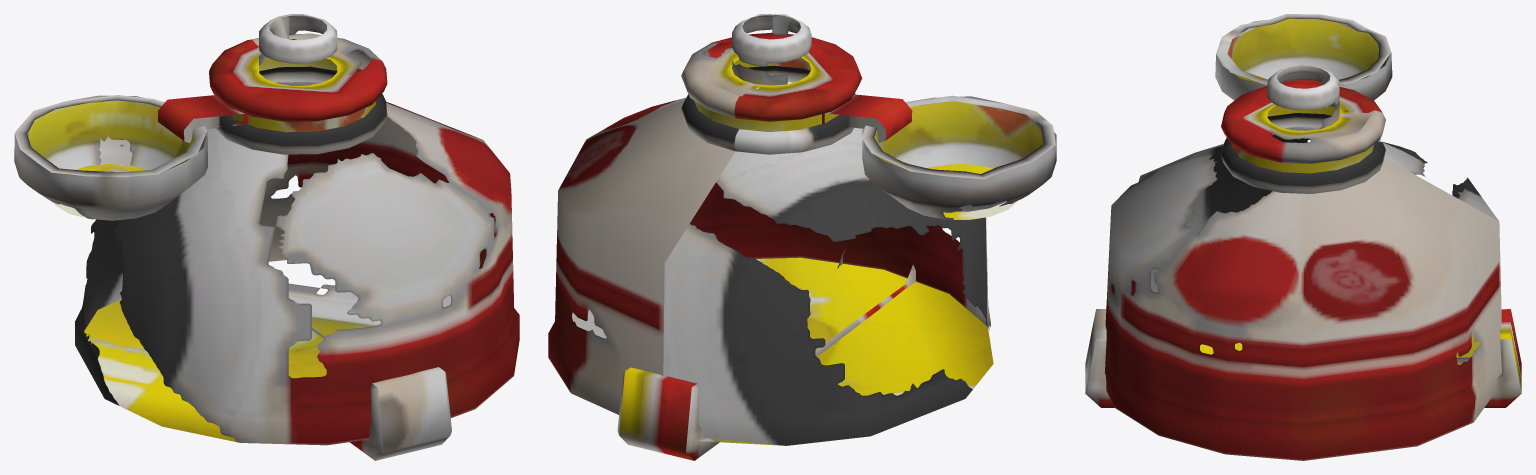
The model's file is roadhog_health.obj.
3 renders of one model, left to right at view 1: azimuth 30°, elevation 25°; view 2: azimuth 150°, elevation 25°; view 3: azimuth 270°, elevation 25°, orthographic. The views are drawn at different scales.
Parts seen in each view (by area): view 1: Submesh_0.255.27F1A65BA175E322; view 2: Submesh_0.255.27F1A65BA175E322; view 3: Submesh_0.255.27F1A65BA175E322.
Boxes of the visible parts, x1=… form: Submesh_0.255.27F1A65BA175E322: x1=14, y1=14, x2=519, y2=460; Submesh_0.255.27F1A65BA175E322: x1=548, y1=14, x2=1056, y2=460; Submesh_0.255.27F1A65BA175E322: x1=1085, y1=14, x2=1521, y2=460.
Bounding box in the file's own units: 0.4682 × 0.3323 × 0.4152.
